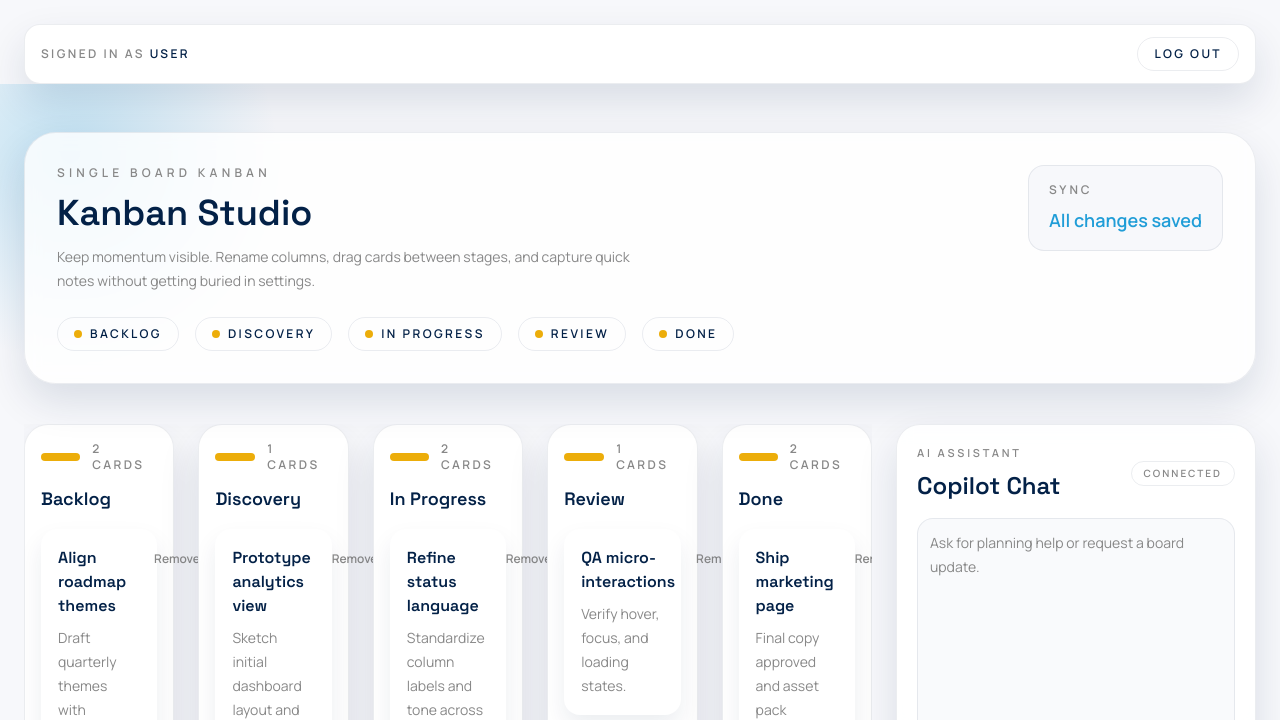
Test: AuthGate › logs out and returns to sign in view
Click the button "Log out" at (1188, 54), box [1138,37,1239,71]
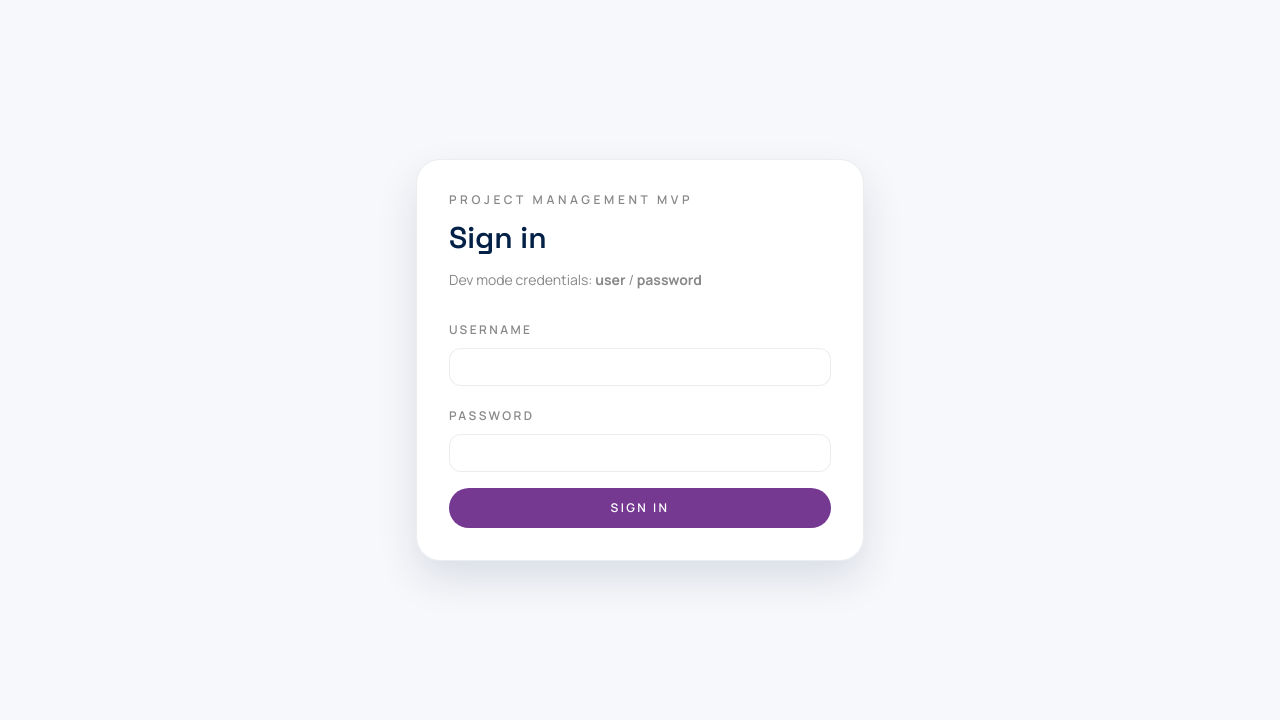
Check: the heading "Sign in" is shown, box [449,218,547,257]
